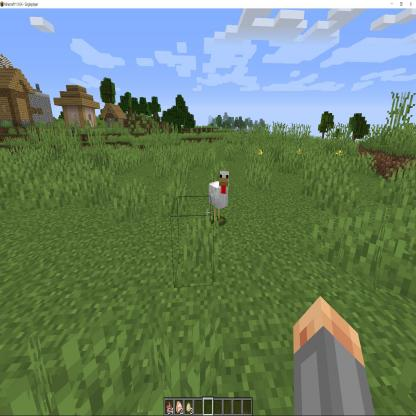minecraft-pigs: (206, 165, 230, 232)
